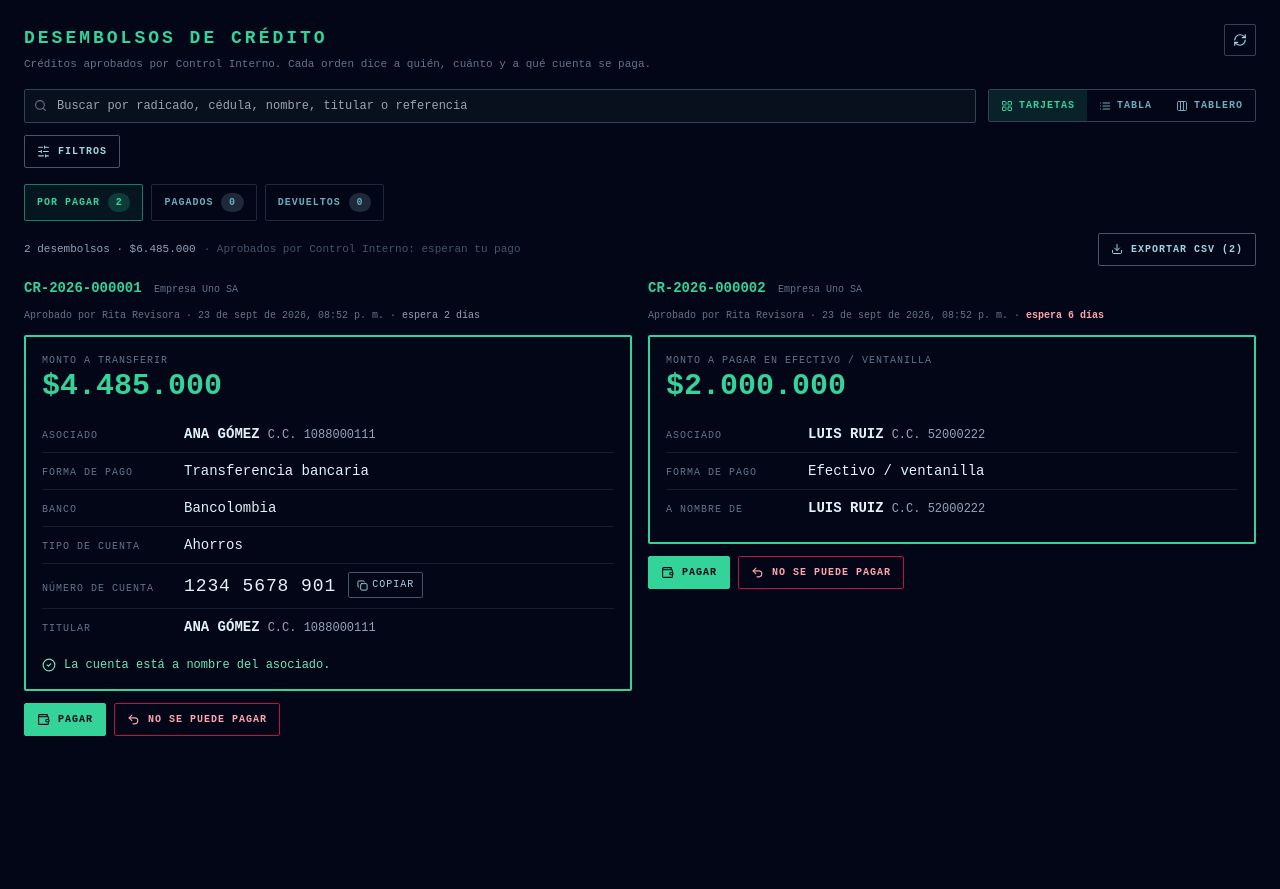
Scenario: Tesorería — búsqueda y filtros › "solo cuentas de terceros" viaja como 1
Click the button "FILTROS": click(72, 151) [24, 134, 120, 168]
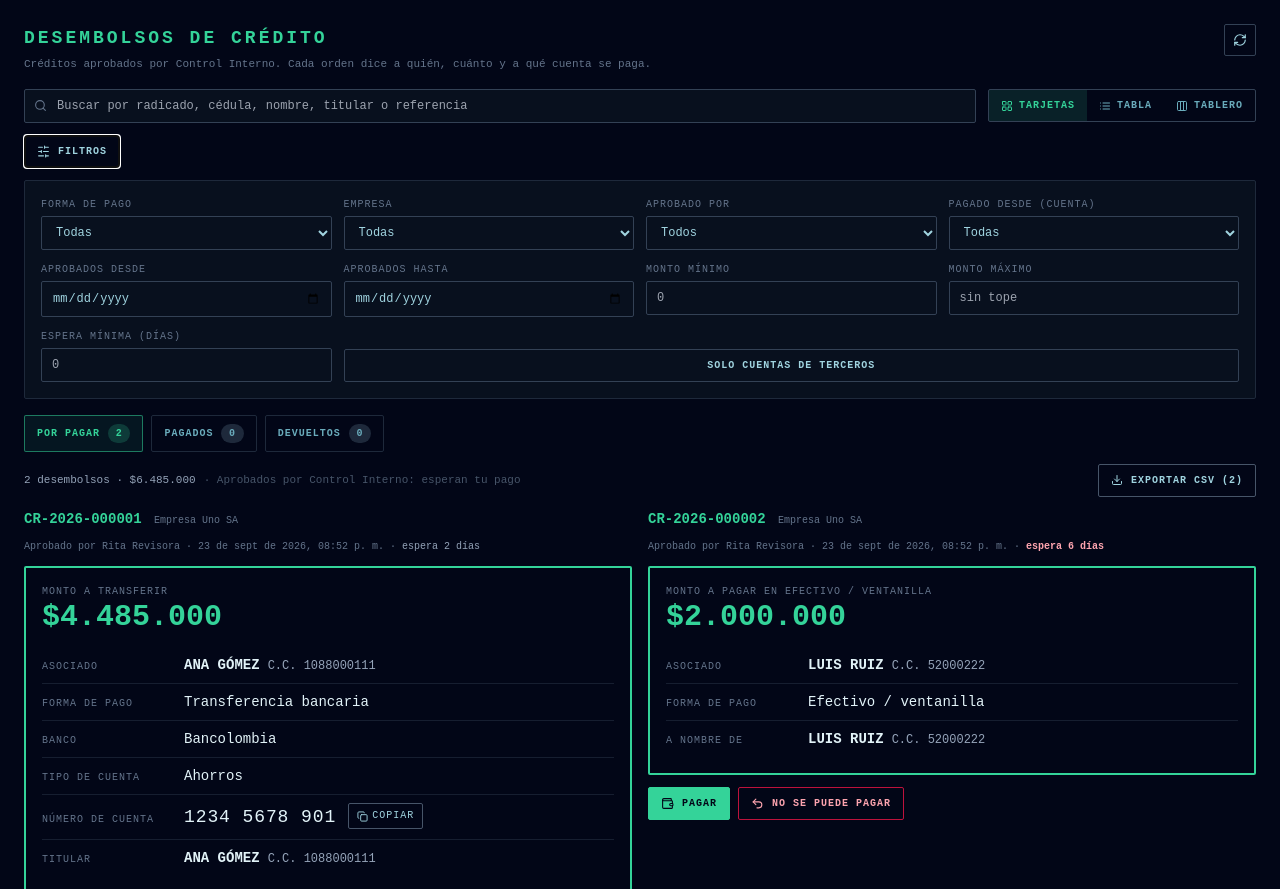
Click the button "SOLO CUENTAS DE TERCEROS": click(791, 365) [344, 348, 1239, 382]
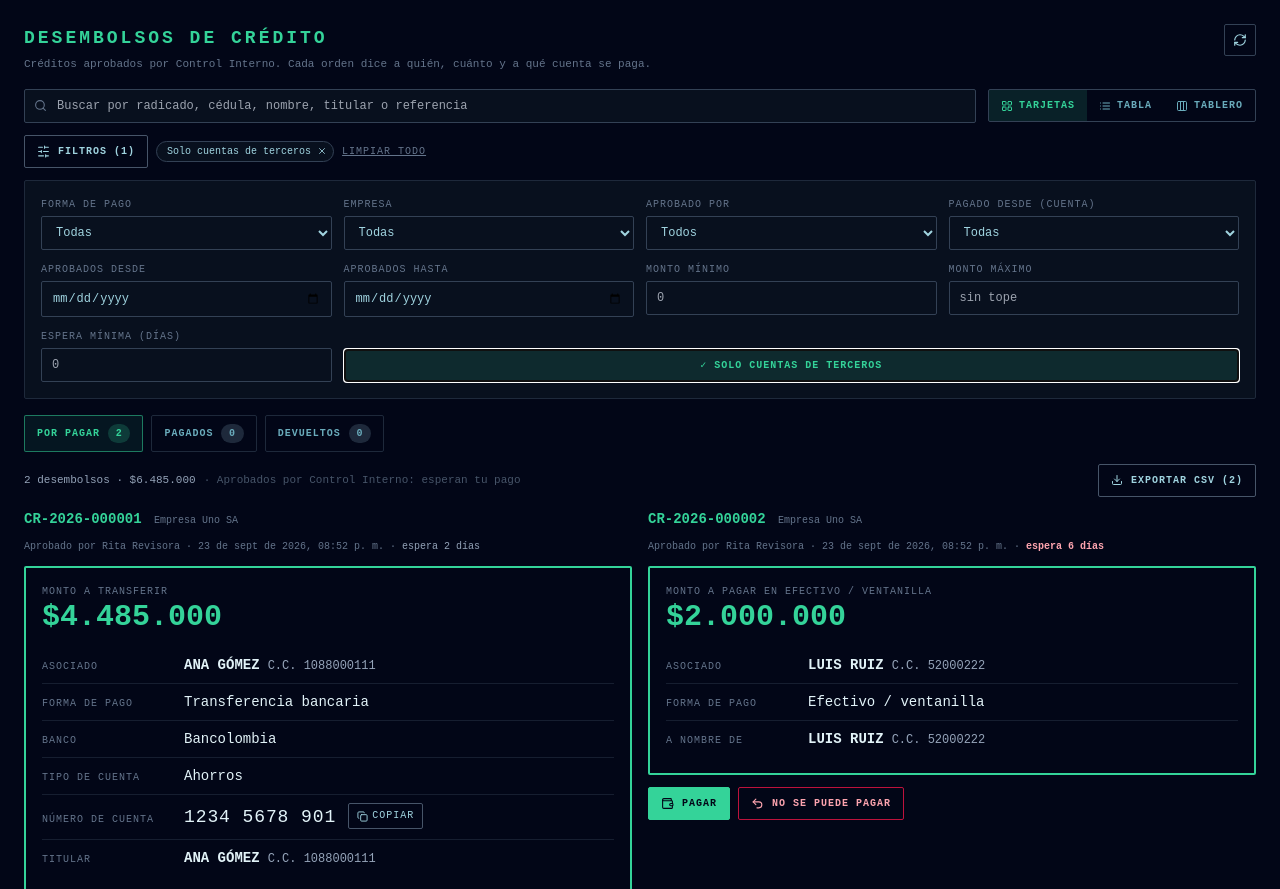
Result: the button named "Quitar filtro: Solo cuentas de terceros" is shown at [315, 144, 329, 158]
